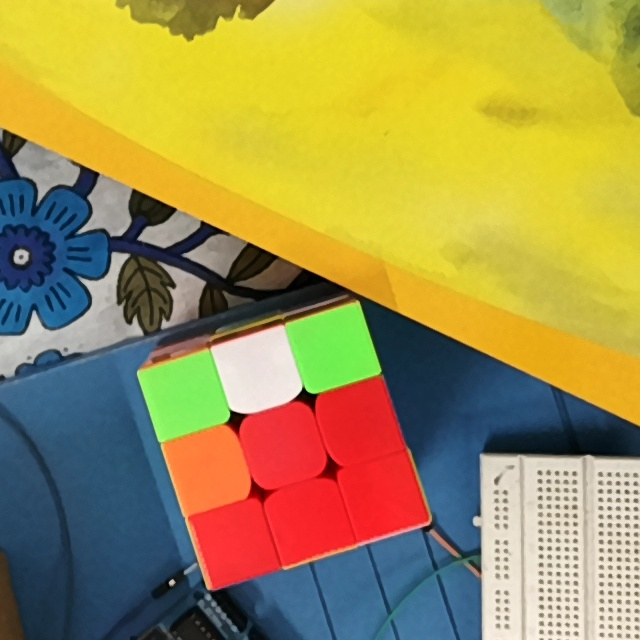tile: (278, 491, 339, 549), (254, 417, 312, 475), (305, 320, 363, 377), (181, 439, 236, 499), (207, 514, 262, 572), (331, 394, 386, 451), (357, 469, 411, 524), (230, 345, 285, 398), (157, 369, 210, 422)
